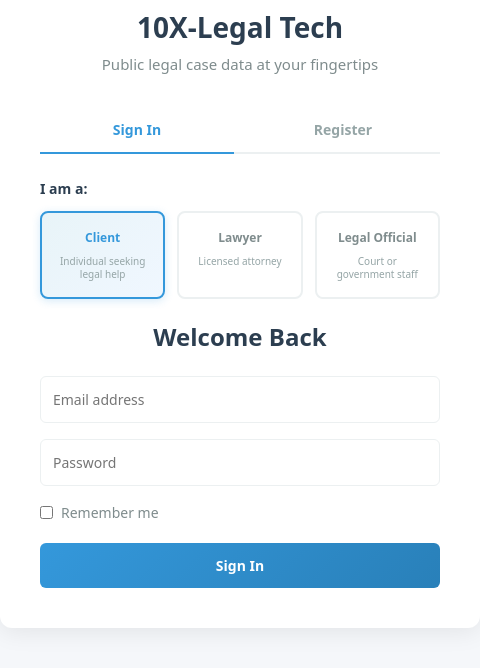
Test: Landing › switches to register tab
Click the button "Register" at (343, 130), box [246, 107, 440, 152]
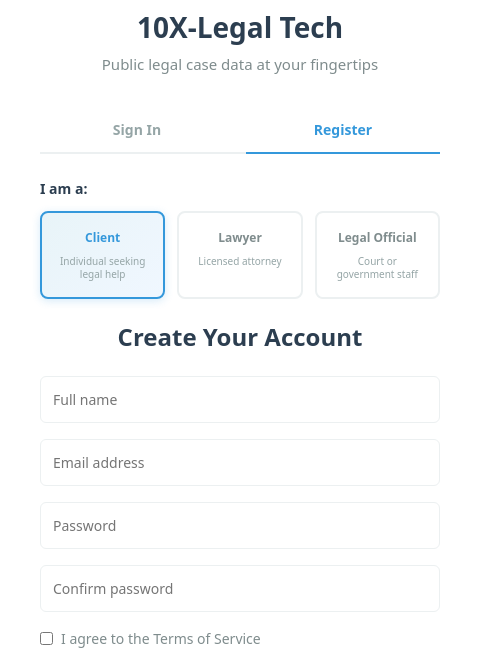
Result: the heading "Create Your Account" is shown at [118, 320, 362, 353]
Result: the field with placeholder "Full name" is shown at [40, 376, 440, 423]
Result: the password field with placeholder "Confirm password" is shown at [40, 565, 440, 612]
